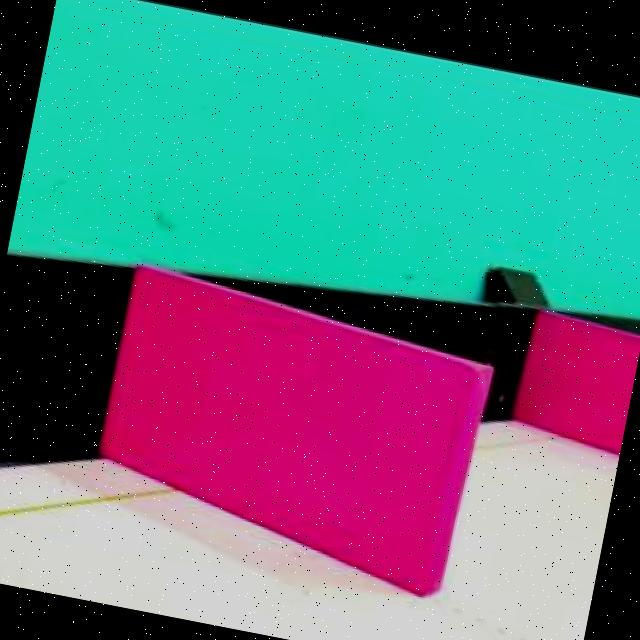xparking: (109, 310, 474, 592), (522, 320, 640, 452)
